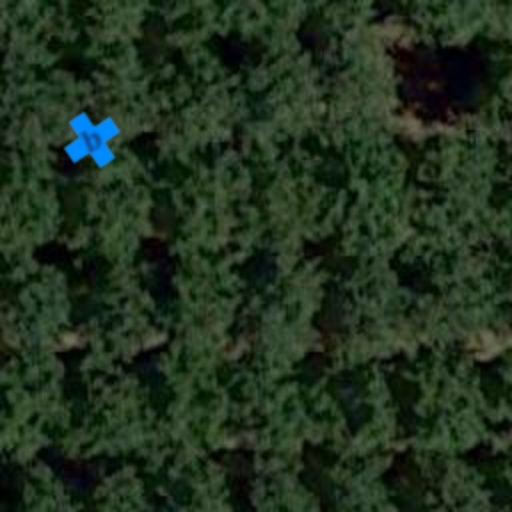cross: (52, 100, 132, 180)
